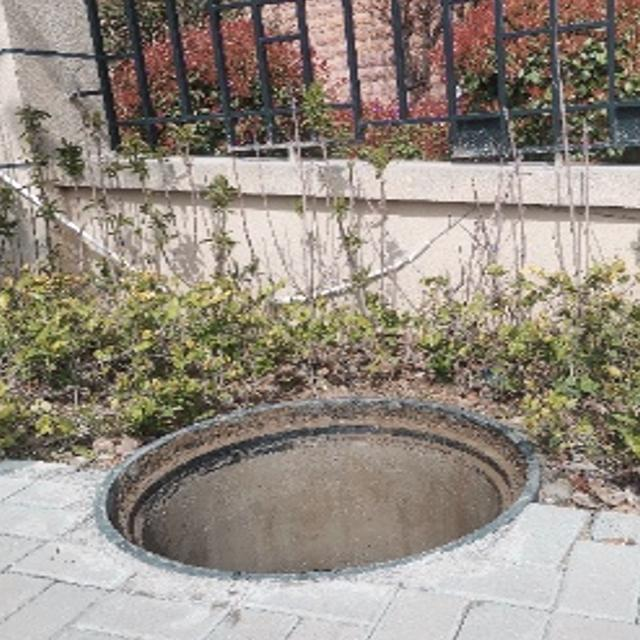lose: (95, 394, 544, 580)
